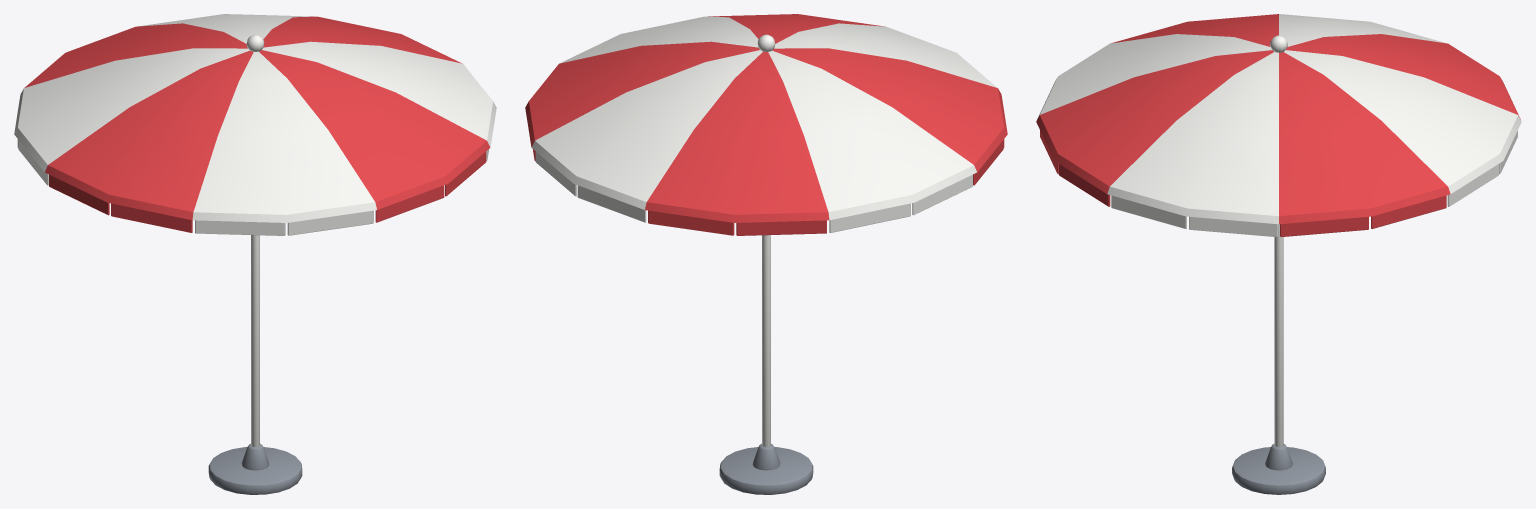
Rendered from guarda_sol.glb.
The picture shows the model from 3 angles, left to right: view 1: azimuth 30°, elevation 25°; view 2: azimuth 150°, elevation 25°; view 3: azimuth 270°, elevation 25°; orthographic projection.
Parts seen in each view (by area): view 1: guarda_sol; view 2: guarda_sol; view 3: guarda_sol.
Boxes of the visible parts, left/top/right/bottom form: guarda_sol: left=14, top=14, right=496, bottom=494; guarda_sol: left=525, top=14, right=1007, bottom=494; guarda_sol: left=1036, top=14, right=1521, bottom=494.
Bounding box in the file's own units: 2.68 × 2.68 × 2.68.
1 material, 1 textured.
